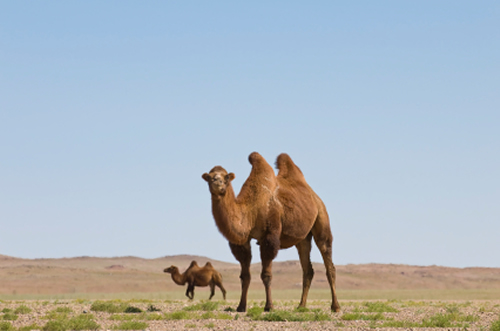camel: (199, 147, 347, 312), (163, 261, 230, 304)
